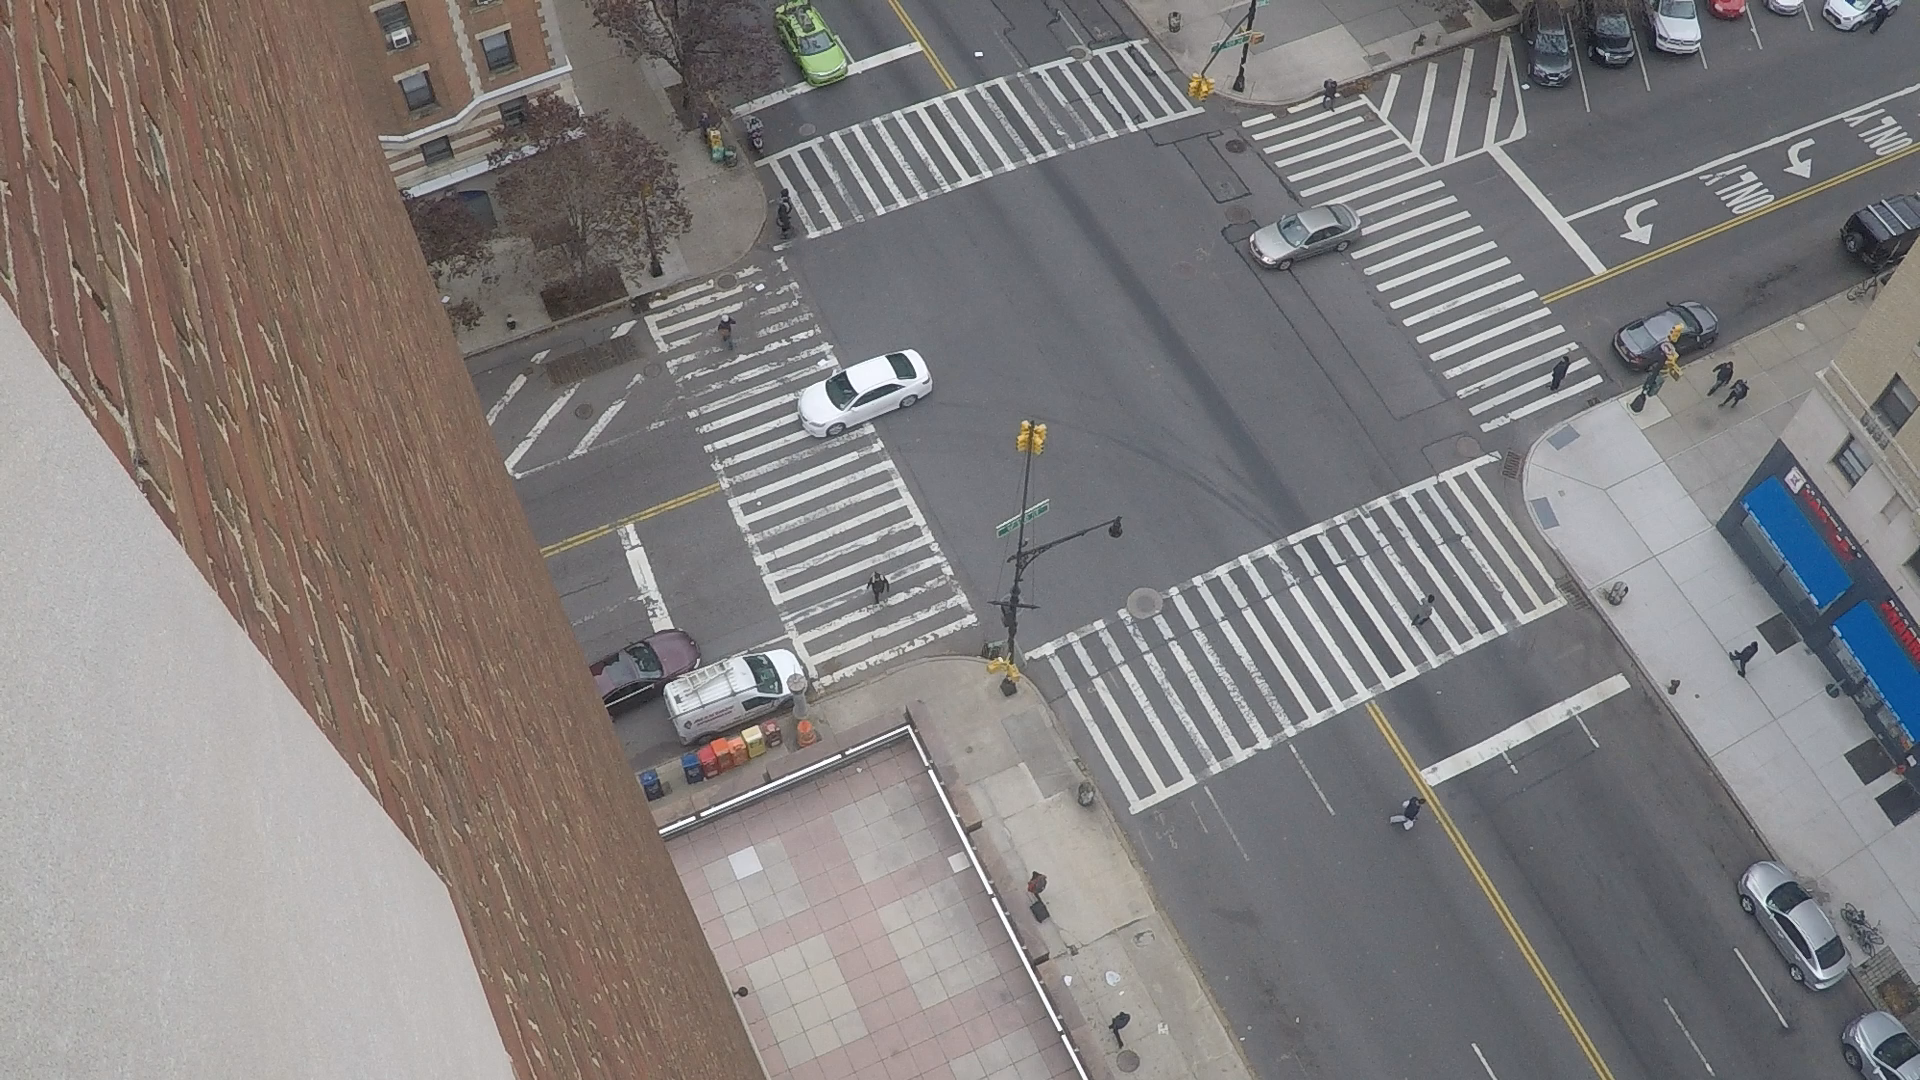Car: (816, 3, 847, 61), (1642, 0, 1647, 12), (795, 654, 799, 662), (1692, 300, 1701, 303), (1763, 0, 1764, 3)
Pedestrian: (757, 119, 762, 123)
